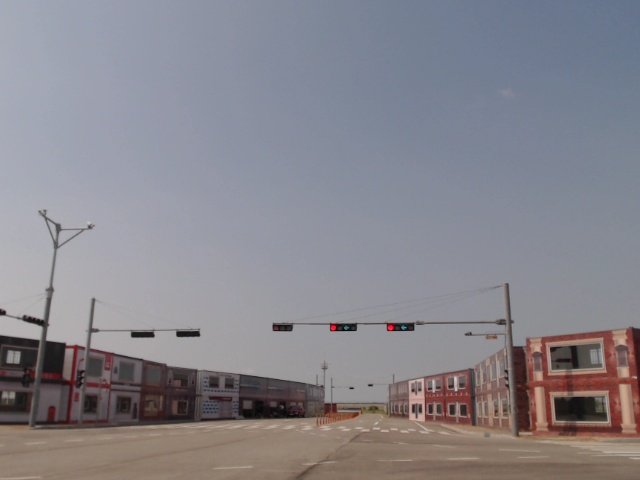left_green_4: (330, 324, 357, 331), (388, 324, 414, 331)
